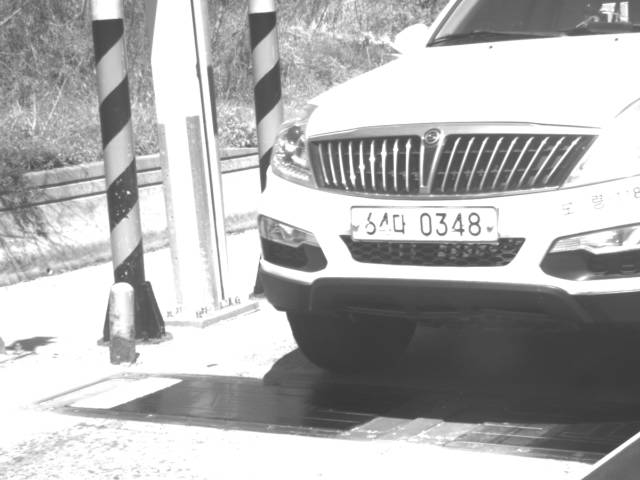car: (255, 1, 640, 376)
plate: (351, 206, 503, 243)
